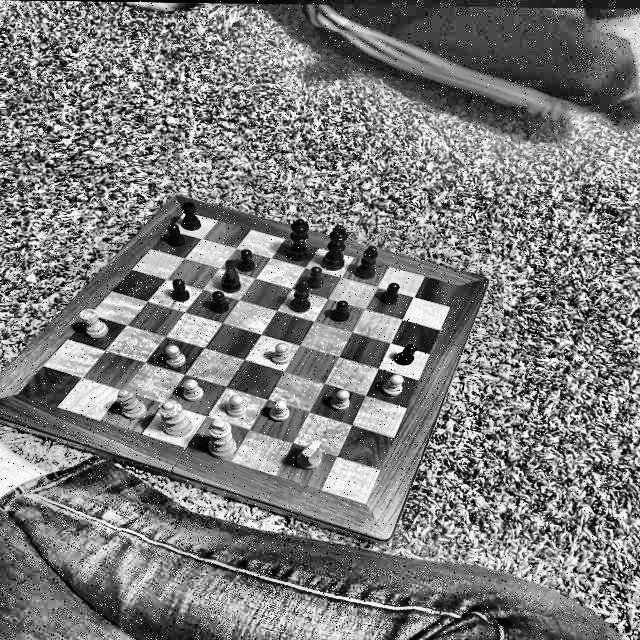black-king: (318, 220, 352, 271)
black-knight: (218, 257, 244, 294)
black-pawn: (166, 276, 193, 304), (392, 340, 420, 366), (377, 280, 403, 306), (328, 298, 356, 322), (207, 288, 231, 314), (164, 220, 186, 248), (304, 263, 326, 290), (236, 247, 254, 274)
black-queen: (282, 217, 314, 264), (286, 274, 314, 314), (353, 240, 382, 278)
black-rook: (179, 198, 203, 232)
white-bishop: (116, 386, 150, 420)
white-king: (207, 417, 239, 461)
white-knight: (290, 436, 328, 473)
white-pawn: (177, 376, 210, 402), (162, 340, 190, 370), (267, 396, 295, 422), (222, 392, 248, 418), (380, 372, 407, 396), (328, 386, 354, 410), (266, 340, 290, 366)
white-queen: (156, 396, 197, 440)
white-rook: (78, 306, 112, 339)
